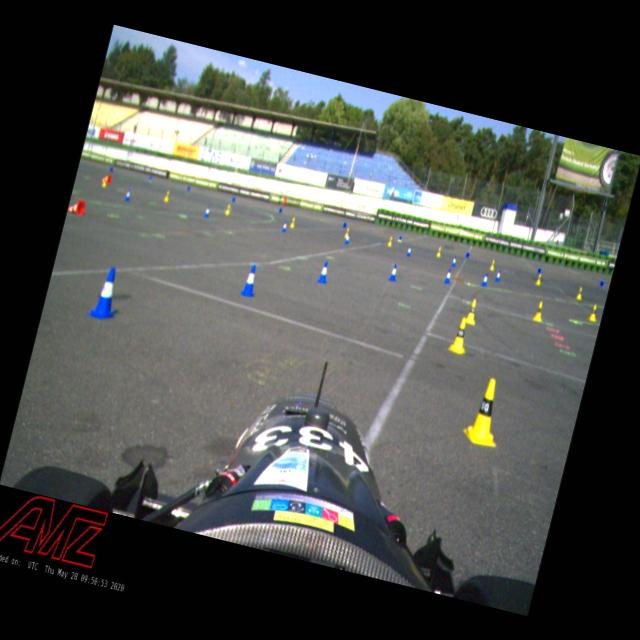blue_cone: (87, 264, 124, 322), (239, 262, 261, 298), (316, 260, 330, 284), (388, 262, 399, 282), (443, 267, 453, 284), (480, 272, 489, 287), (124, 188, 132, 202), (203, 205, 210, 218), (344, 232, 351, 245), (494, 270, 501, 282), (451, 254, 457, 267), (406, 244, 412, 256), (598, 280, 604, 288), (464, 251, 470, 258), (536, 267, 542, 274), (186, 184, 190, 192), (231, 196, 235, 202)
large_orange_cone: (66, 196, 86, 216), (100, 172, 112, 185)
yellow_cone: (460, 373, 510, 448), (448, 314, 472, 355), (462, 296, 480, 326), (532, 298, 546, 322), (587, 302, 600, 322), (575, 285, 584, 300), (488, 258, 496, 271), (280, 221, 288, 234), (534, 273, 542, 286), (435, 245, 442, 258), (163, 189, 170, 202), (386, 235, 393, 247), (290, 216, 296, 228), (101, 176, 107, 188), (224, 203, 230, 215), (278, 202, 284, 213), (344, 227, 350, 238)
